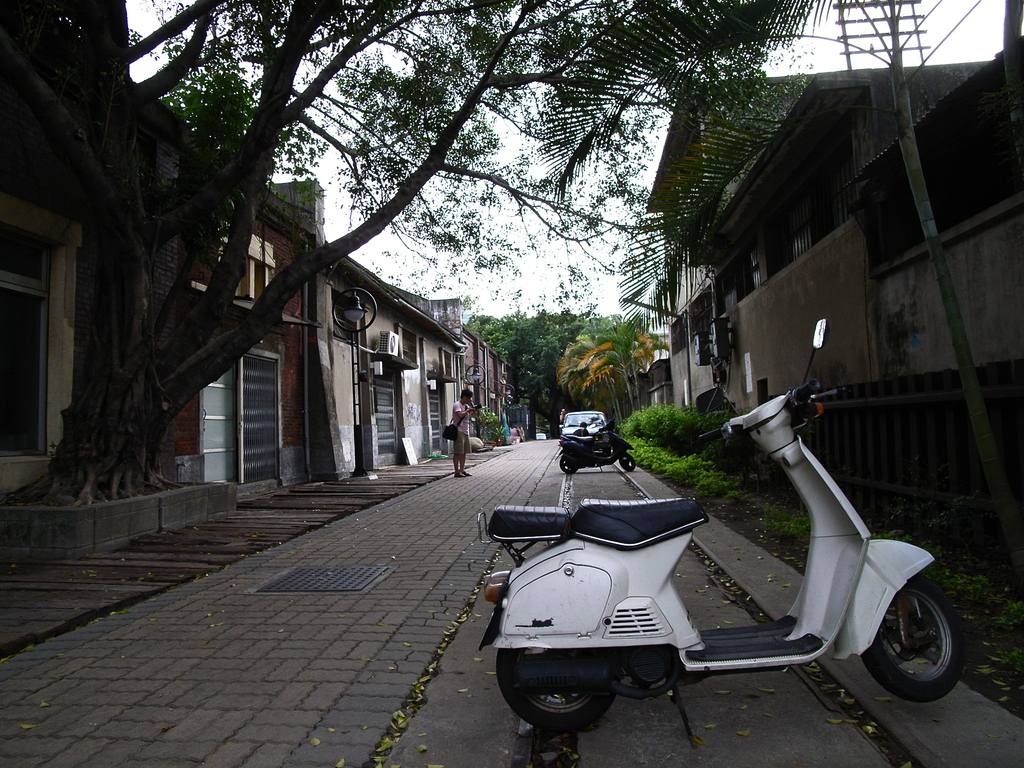Car: (556, 408, 605, 432)
